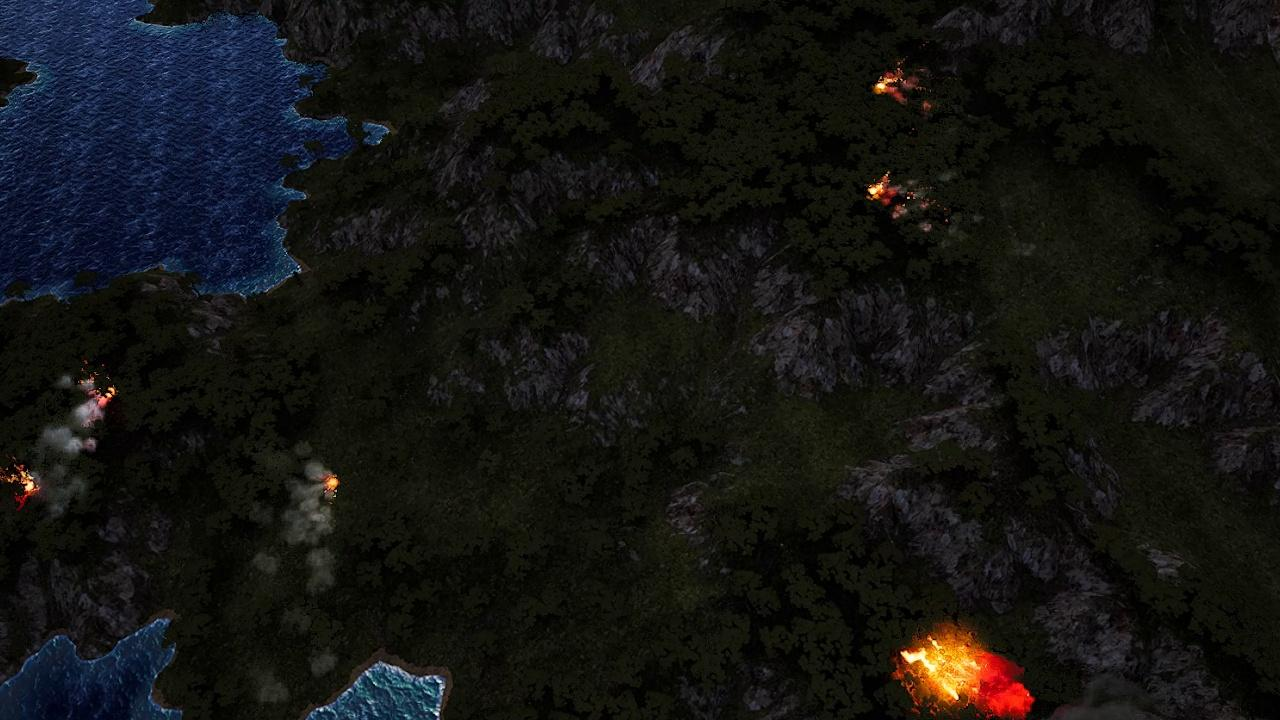fire: (896, 629, 1028, 715), (866, 172, 935, 223), (874, 68, 924, 107), (2, 465, 40, 503), (85, 379, 116, 407), (323, 472, 342, 495)
smoke: (256, 436, 348, 593), (28, 367, 98, 527)
